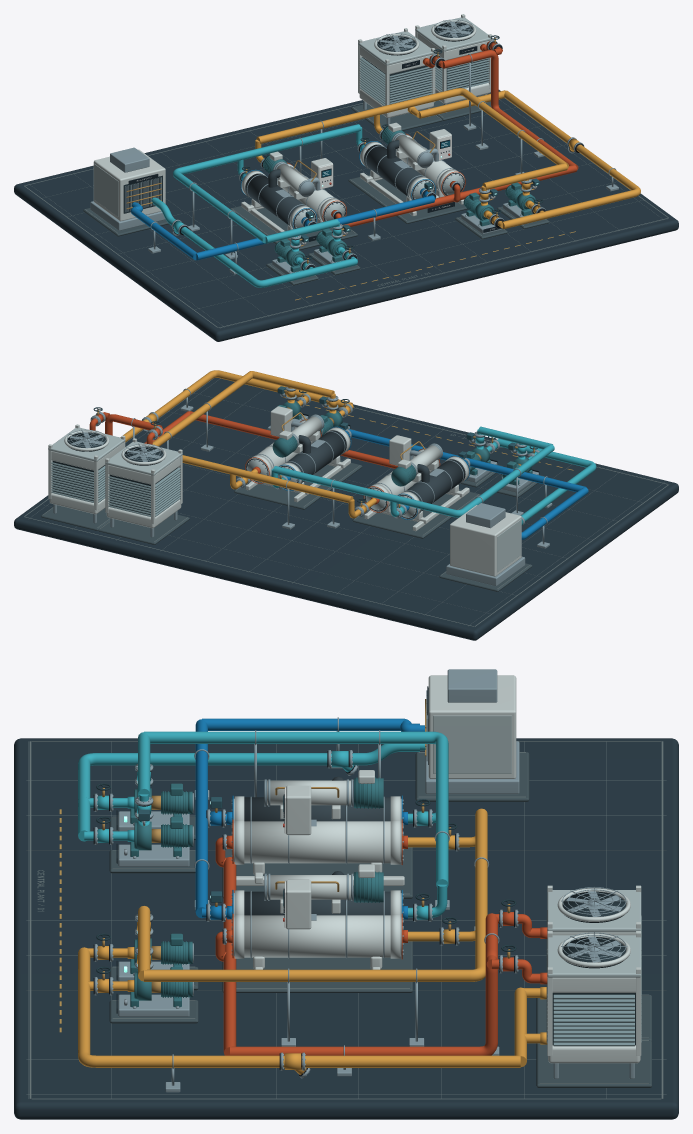
File: plant.glb
The picture shows the model from 3 angles, top to bottom: view 1: azimuth 30°, elevation 25°; view 2: azimuth 150°, elevation 25°; view 3: azimuth 270°, elevation 25°; orthographic projection. The views are drawn at different scales.
Parts seen in each view (by area): view 1: FOUNDATION.body, CH-02.body, CH-01.body, CT-01.body, LOAD.body, CT-02.body, PIPE-20.body, PIPE-16.body, PIPE-18.body, SUPPORTS.body, PIPE-13.body, PIPE-11.body (+10 smaller); view 2: FOUNDATION.body, CT-01.body, CH-01.body, LOAD.body, CH-02.body, CT-02.body, PIPE-16.body, PIPE-20.body, PIPE-18.body, PIPE-11.body, SUPPORTS.body, PIPE-21.body (+7 smaller); view 3: FOUNDATION.body, CH-01.body, CH-02.body, CT-02.body, LOAD.body, PIPE-18.body, PIPE-20.body, PIPE-16.body, CT-01.body, PIPE-22.body, PIPE-13.body, CHWP-02.body (+11 smaller).
Boxes of the visible parts, x1,y1,x2,y2 form: FOUNDATION.body: (14,90,678,341); CH-02.body: (359,122,465,216); CH-01.body: (240,151,346,242); CT-01.body: (358,28,435,125); LOAD.body: (90,147,165,230); CT-02.body: (415,14,492,113); PIPE-20.body: (256,88,568,168); PIPE-16.body: (173,124,360,243); PIPE-18.body: (502,90,640,229); SUPPORTS.body: (148,54,618,274); PIPE-13.body: (152,198,315,287); PIPE-11.body: (196,195,434,260); FOUNDATION.body: (14,378,678,640); CT-01.body: (105,438,182,537); CH-01.body: (363,435,469,531); LOAD.body: (446,503,525,586); CH-02.body: (245,406,351,502); CT-02.body: (48,424,125,523); PIPE-16.body: (273,444,554,517); PIPE-20.body: (152,371,353,503); PIPE-18.body: (120,370,352,442); PIPE-11.body: (349,429,586,492); SUPPORTS.body: (131,388,552,548); PIPE-21.body: (189,411,397,468); FOUNDATION.body: (14,738,678,1119); CH-01.body: (227,770,407,885); CH-02.body: (227,864,407,969); CT-02.body: (540,931,641,1078); LOAD.body: (425,669,519,794); PIPE-18.body: (78,947,520,1067); PIPE-20.body: (144,808,487,981); PIPE-16.body: (144,731,448,887); CT-01.body: (540,885,641,999); PIPE-22.body: (230,913,497,1055); PIPE-13.body: (78,744,419,801); CHWP-02.body: (116,816,193,866).
Bounding box in the file's own units: 21.1 × 3.94 × 16.1.
